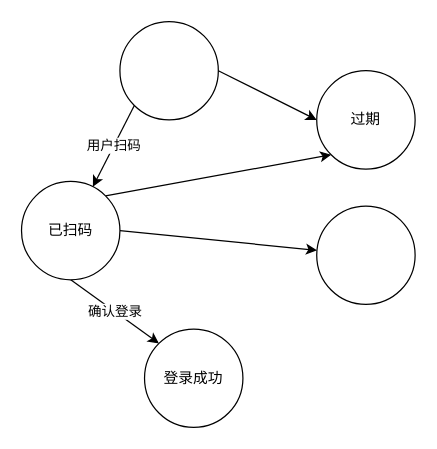
Image size: 437x449. Some labels were removed from this diagram. The shapes that lost their labels are listed below. From the top down, each one's centre as x and y in pixels, then its label:
the point at 168,70: 初始状态
the point at 365,254: 登录取消
